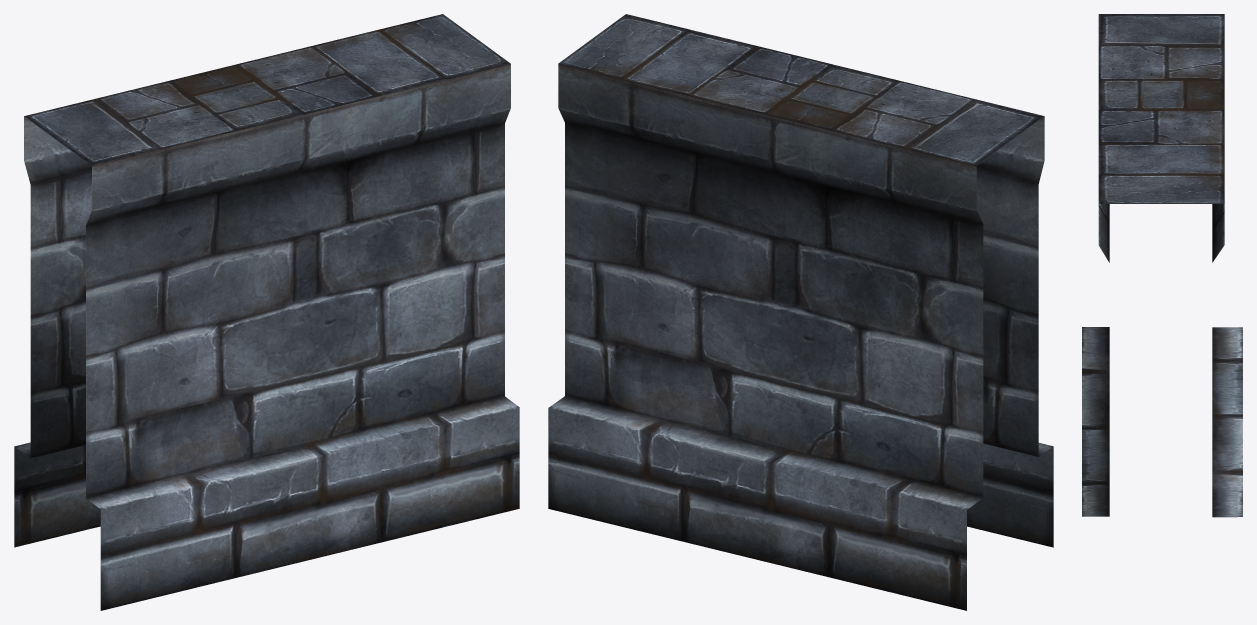
Rendered from B_shiqiang01.fbx.
3 renders of one model, left to right at view 1: azimuth 30°, elevation 25°; view 2: azimuth 150°, elevation 25°; view 3: azimuth 270°, elevation 25°, orthographic. The views are drawn at different scales.
Visible parts, largest first — view 1: B_shiqiang01; view 2: B_shiqiang01; view 3: B_shiqiang01.
Boxes of the visible parts, x1=… form: B_shiqiang01: x1=14, y1=14, x2=519, y2=610; B_shiqiang01: x1=548, y1=14, x2=1053, y2=610; B_shiqiang01: x1=1082, y1=14, x2=1242, y2=517.
Bounding box in the file's own units: 443 × 443 × 159.
